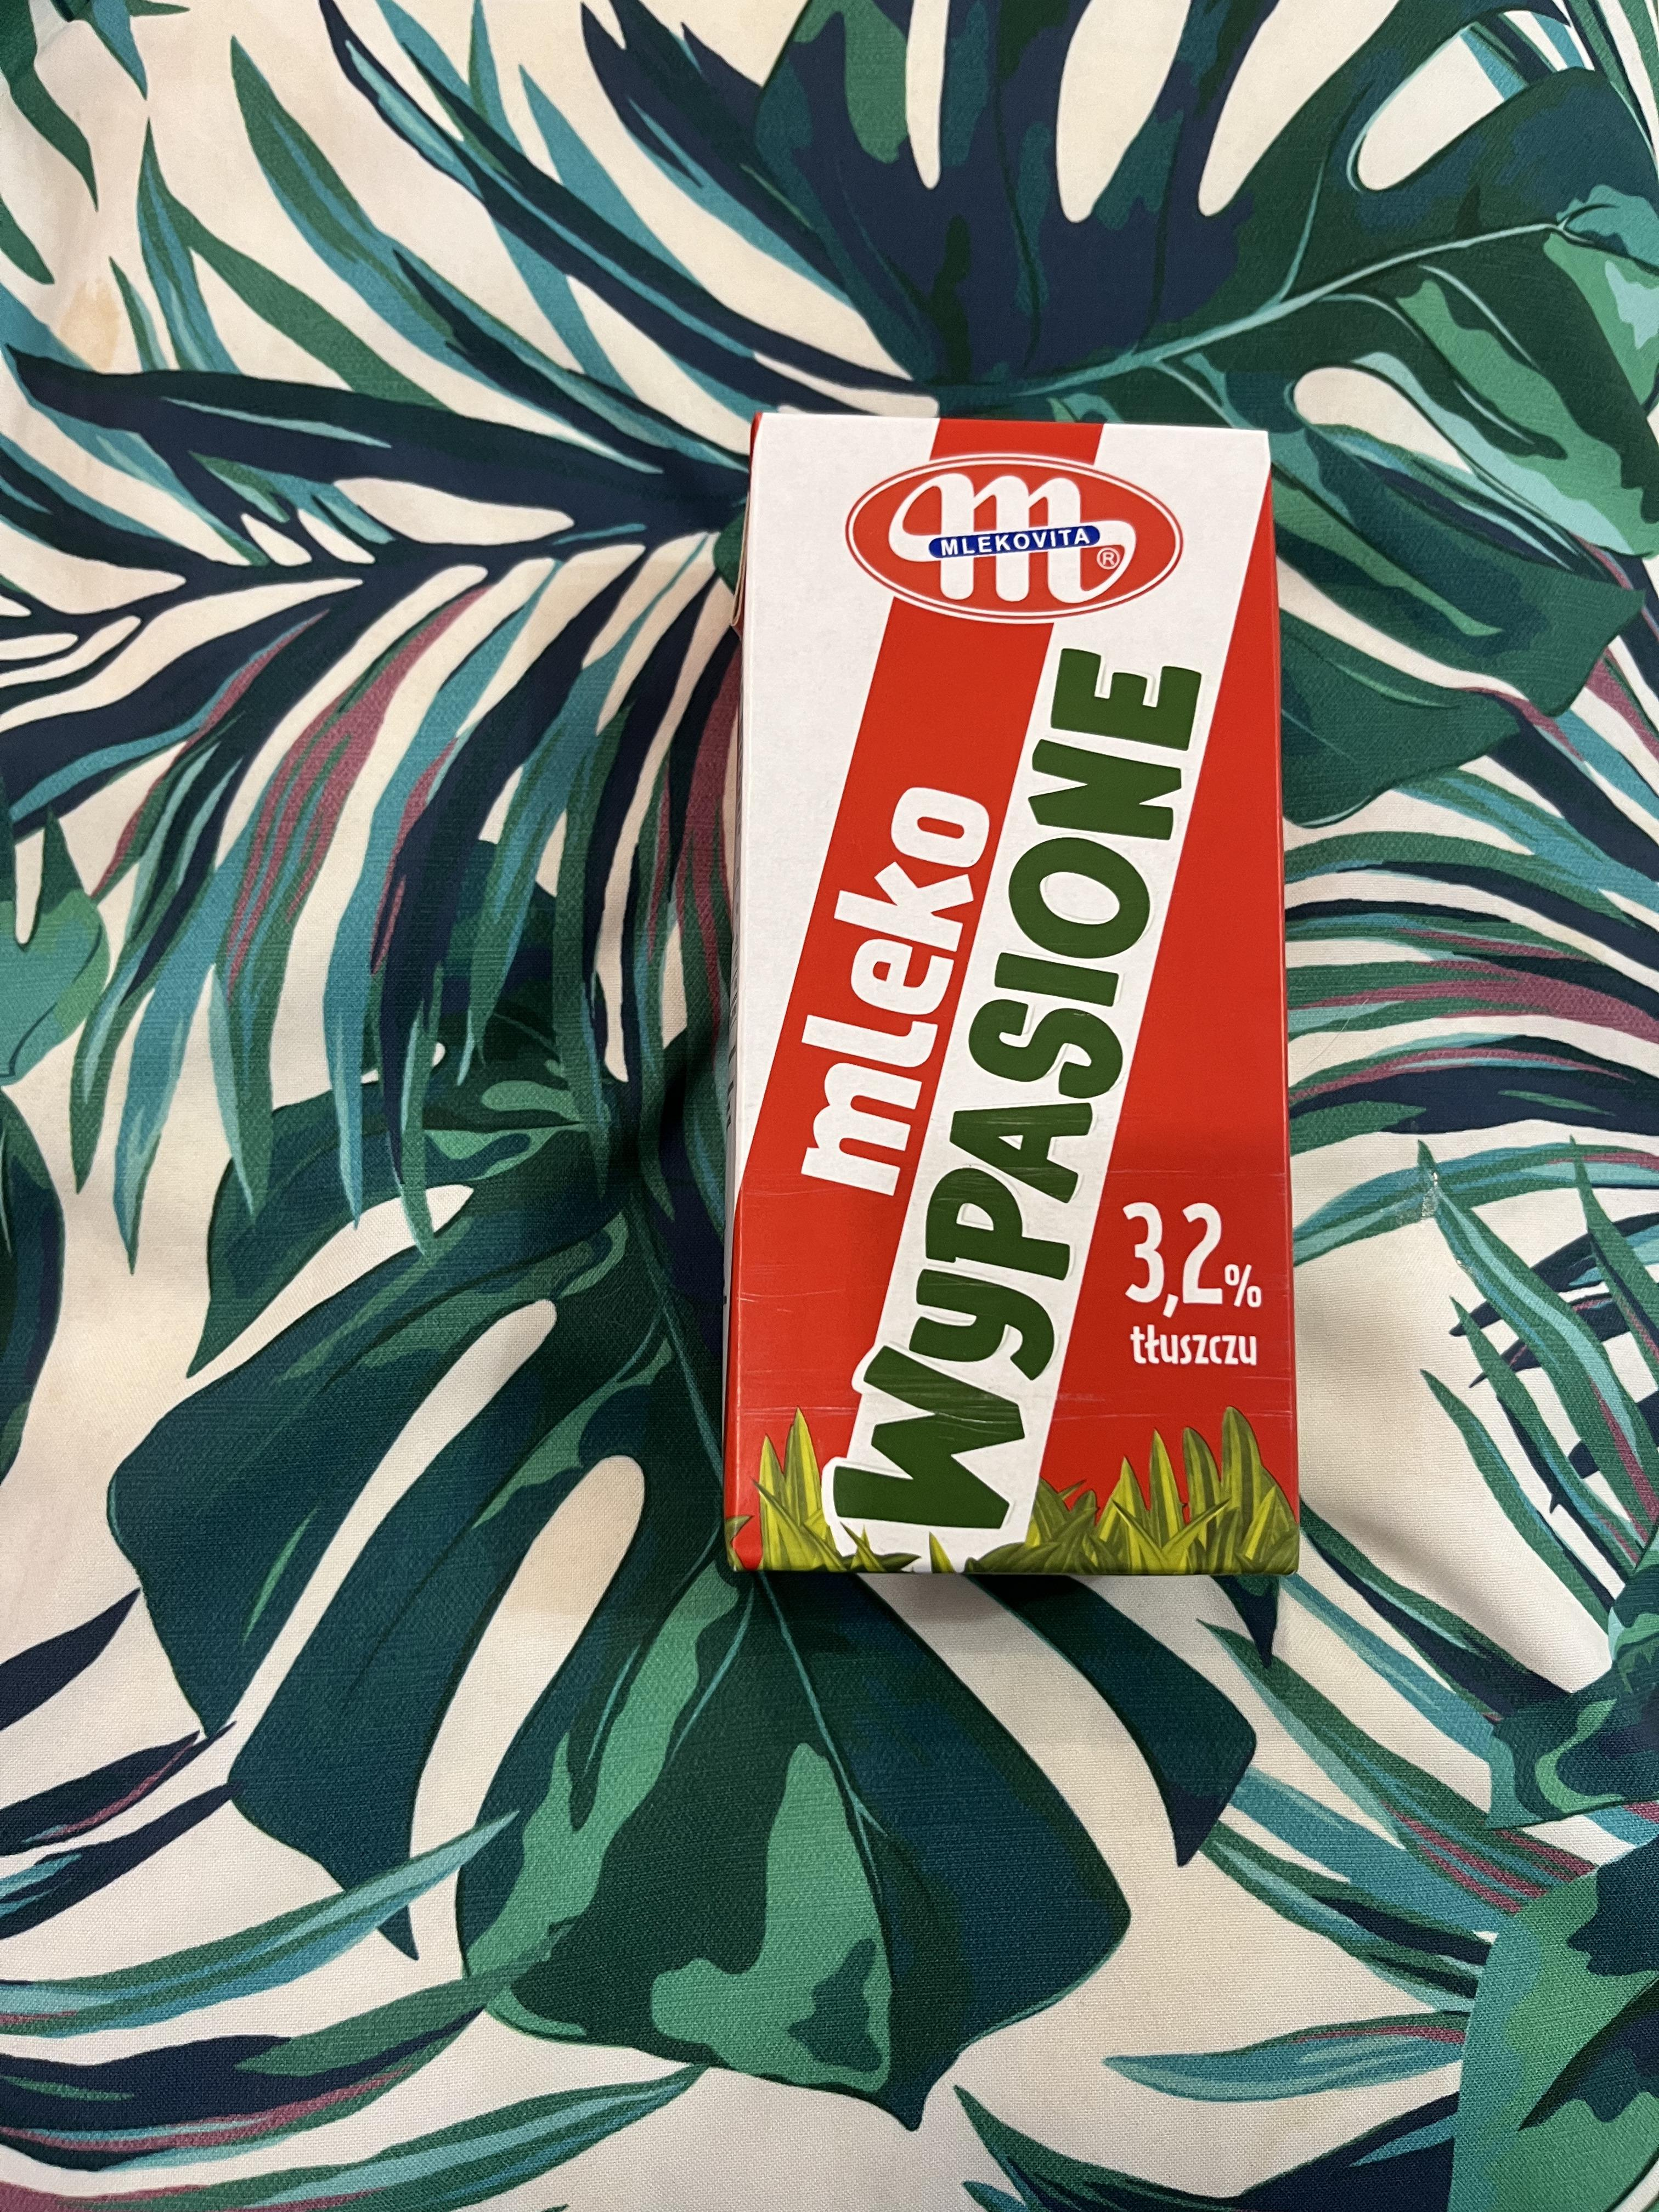Milk: (749, 411, 1300, 1583)
